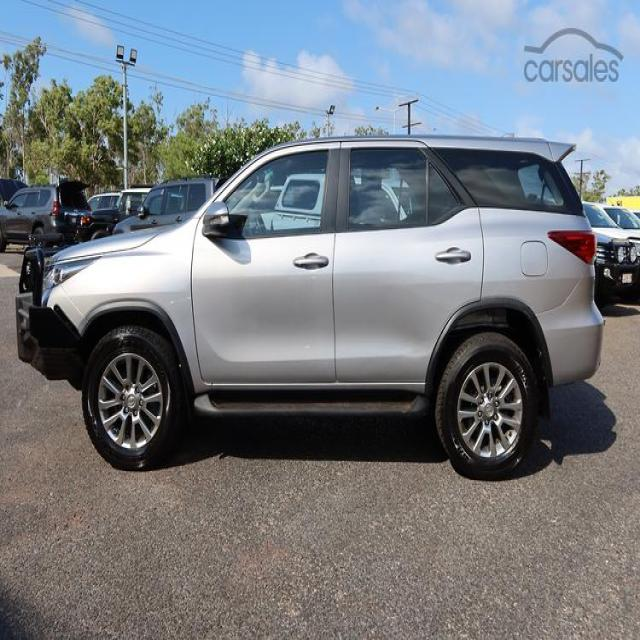light_vehicle: (18, 132, 606, 480)
